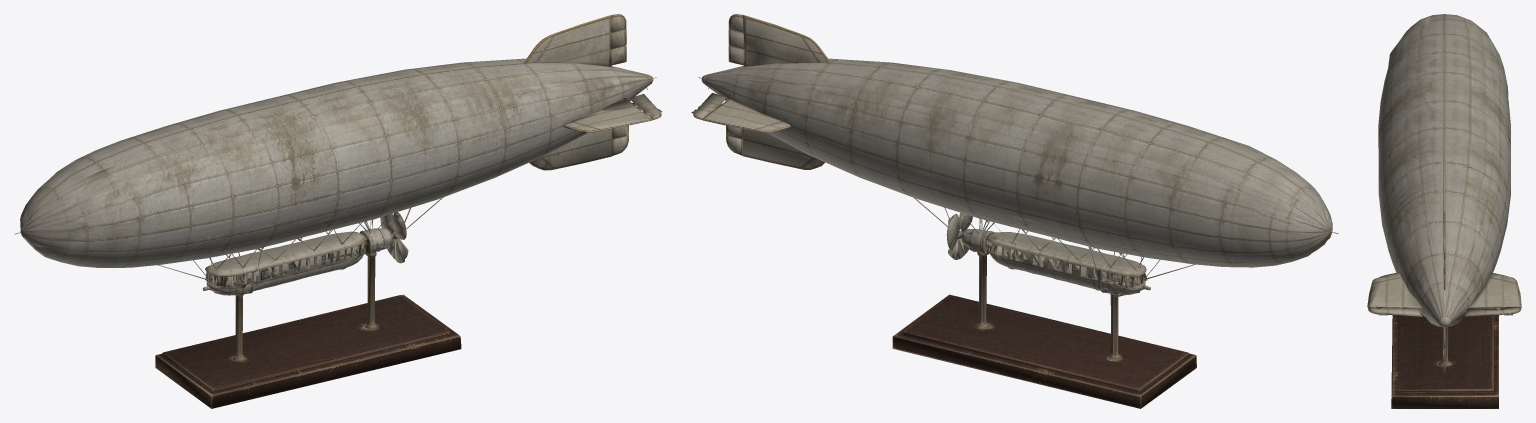
Rendered from skyways-d-hb-vitrine.glb.
3 views of the same model, side by side, from view 1: azimuth 30°, elevation 25°; view 2: azimuth 150°, elevation 25°; view 3: azimuth 270°, elevation 25° (orthographic). The views are drawn at different scales.
Parts seen in each view (by area): view 1: skyways-d-hb-vitrine; view 2: skyways-d-hb-vitrine; view 3: skyways-d-hb-vitrine.
Boxes of the visible parts, x1,y1,x2,y2 form: skyways-d-hb-vitrine: (15,14,662,408); skyways-d-hb-vitrine: (691,14,1338,408); skyways-d-hb-vitrine: (1367,14,1521,408).
Size of the model in its own units: 0.95 by 0.3816 by 0.2093.
1 material, 1 textured.
